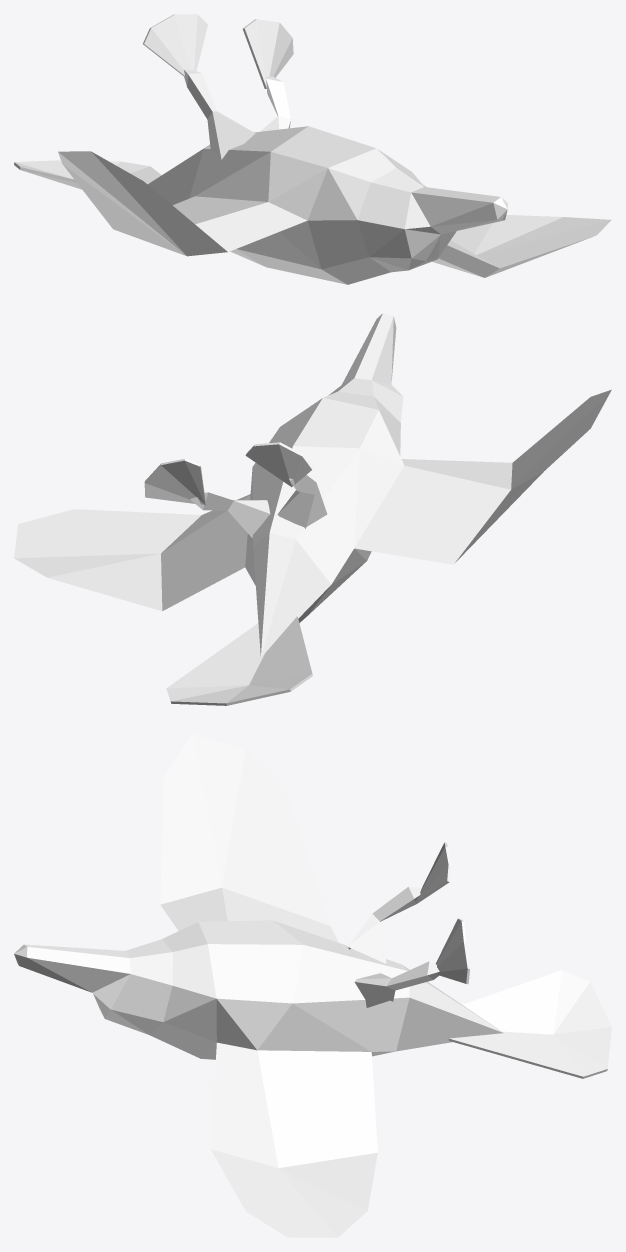
The model's file is seagull.fbx.
3 renders of one model, top to bottom at view 1: azimuth 30°, elevation 25°; view 2: azimuth 150°, elevation 25°; view 3: azimuth 270°, elevation 25°, orthographic. The views are drawn at different scales.
Visible parts, largest first — view 1: seagull_animated; view 2: seagull_animated; view 3: seagull_animated.
Part boxes in pixels (x1,y1,x2,y2): seagull_animated: [14, 14, 611, 284]; seagull_animated: [14, 313, 611, 705]; seagull_animated: [14, 734, 611, 1237].
Bounding box in the file's own units: 114 × 48.15 × 106.
Materials: 1 (1 with a texture image).
